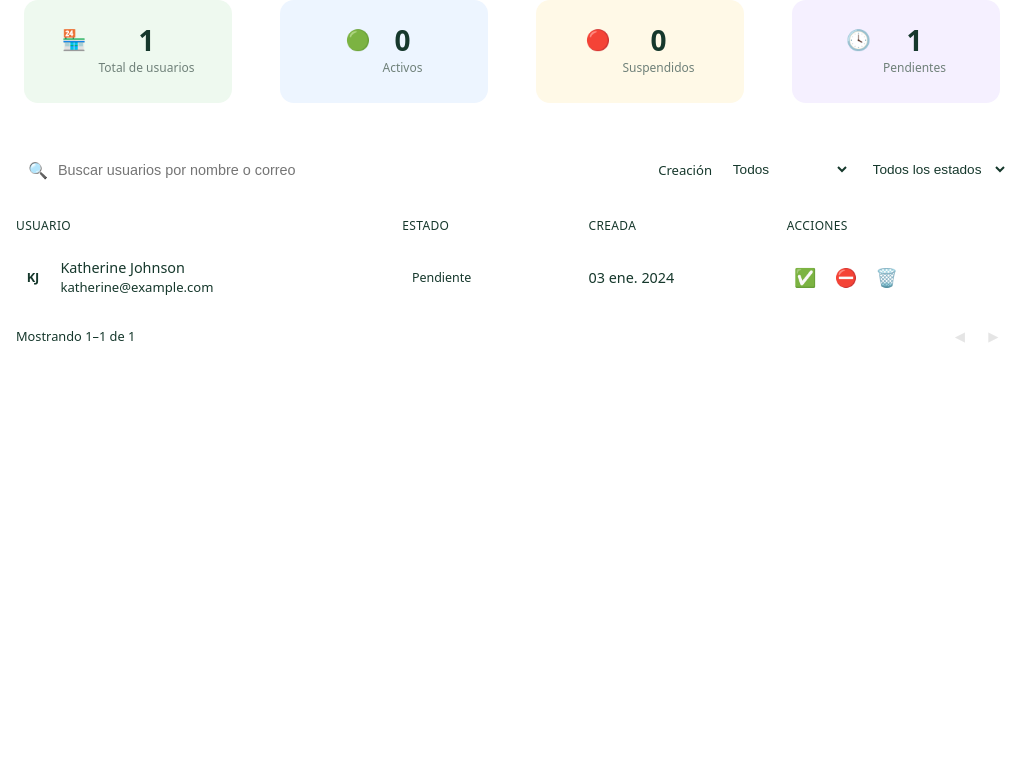
Scenario: panel de cuentas › ejecuta el cambio de estado solo después de confirmar
This screenshot has width=1024, height=768.
Click the button titled "Activar usuario" at (805, 277), box [787,262,824,292]
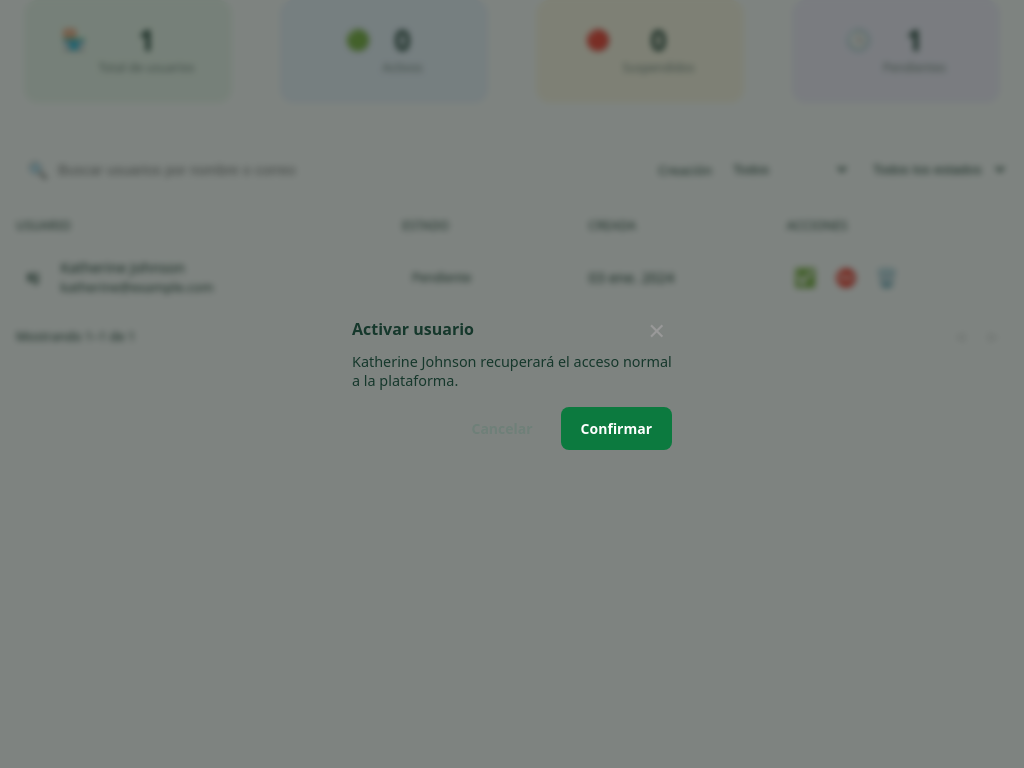
Now the dialog shows "recuperará el acceso", box [352,352,672,390]
Click the button "Confirmar" at (616, 429), box [561,407,672,450]
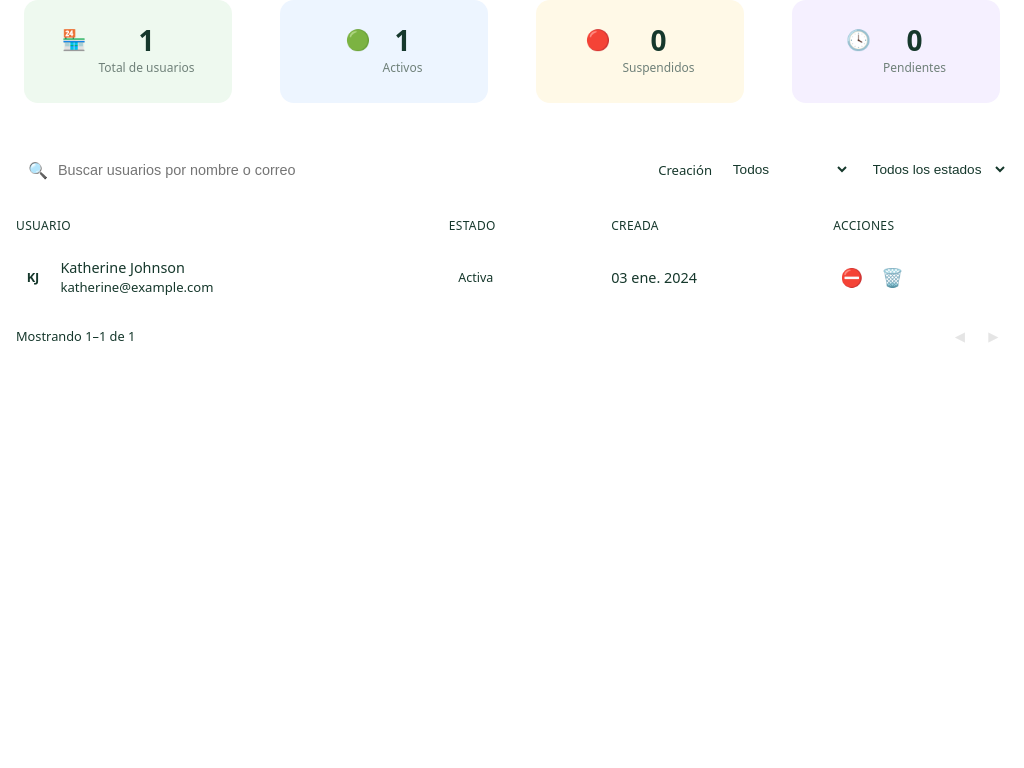
Now the text "Activa" is shown, box [458,269,493,286]
